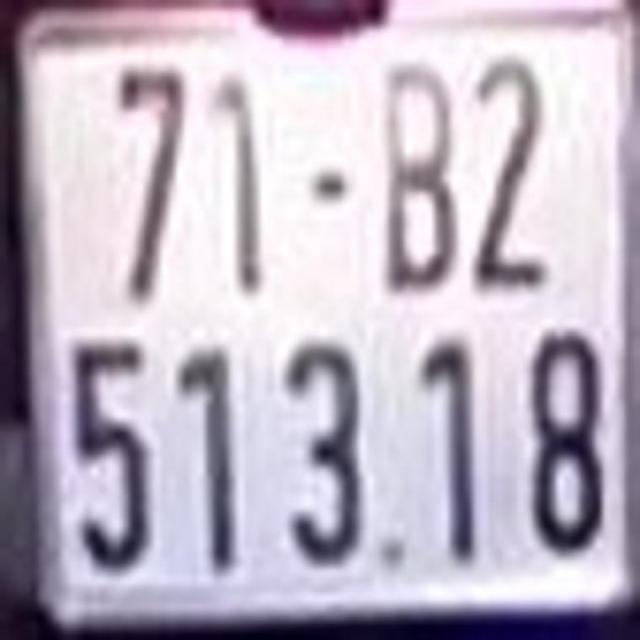1: (210, 64, 280, 303), (175, 343, 244, 580), (414, 339, 476, 559)
2: (479, 54, 557, 294)
3: (284, 341, 366, 558)
5: (75, 341, 159, 574)
7: (114, 66, 194, 308)
8: (531, 332, 605, 548)
B: (385, 63, 459, 299)
